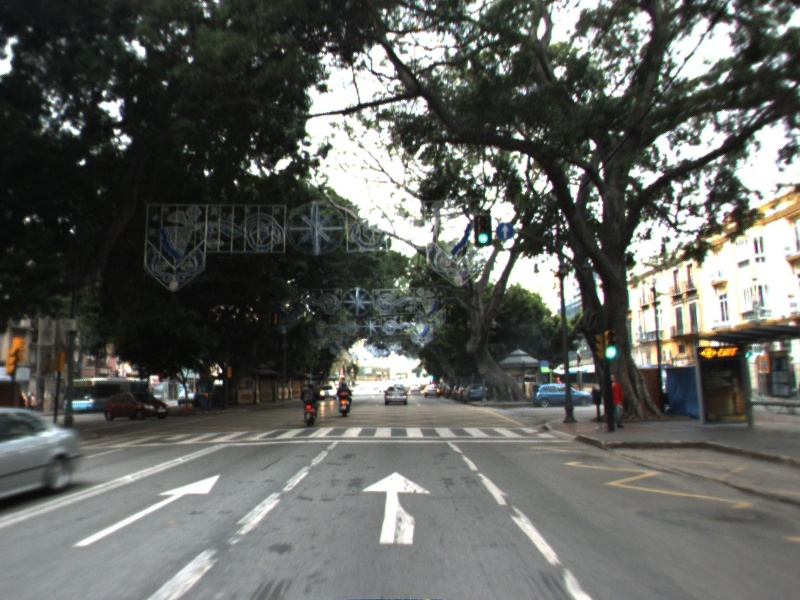STRAIGHT: (69, 472, 223, 550), (358, 469, 435, 547)
